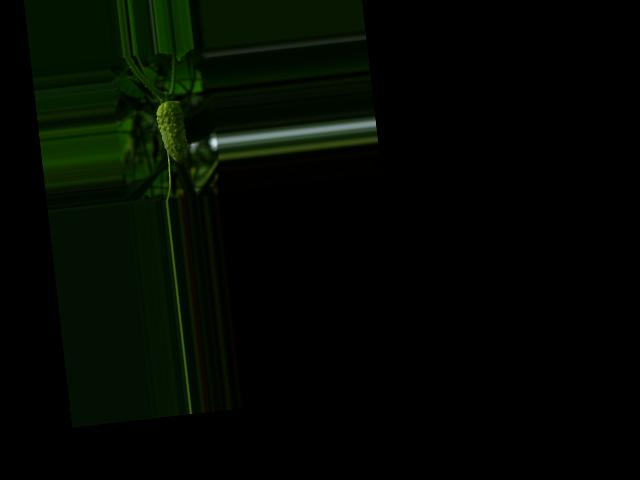cucumber: (154, 99, 189, 167)
